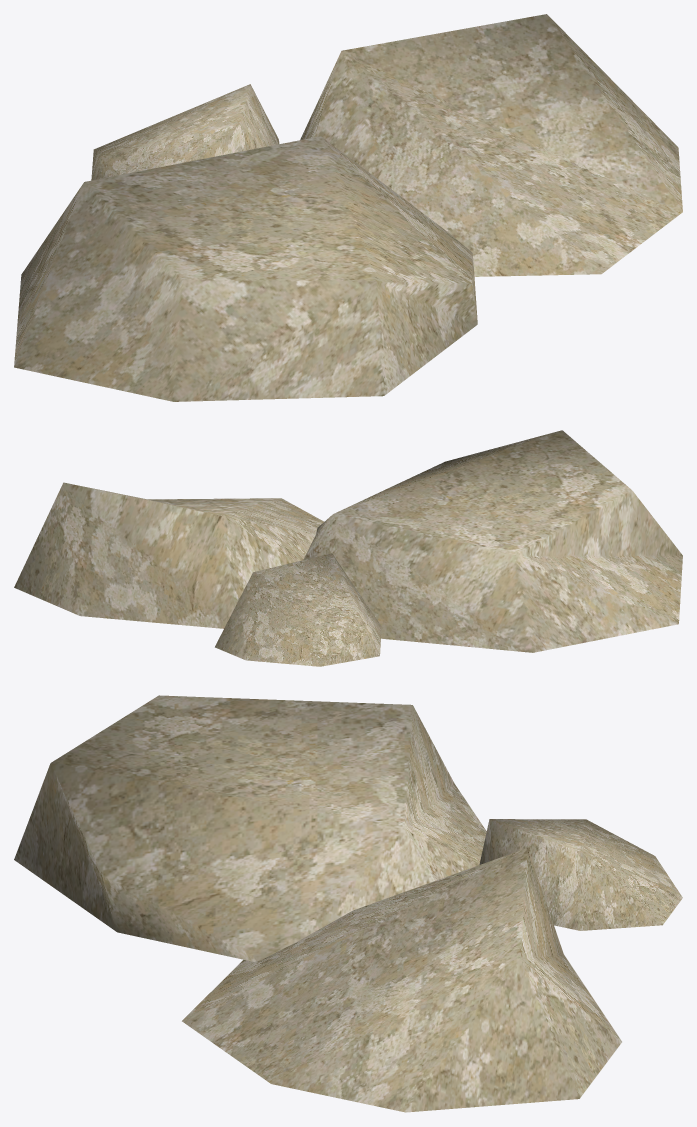
The model's file is rock_small_pile_l2.fbx.
3 views of the same model, one above another, from view 1: azimuth 30°, elevation 25°; view 2: azimuth 150°, elevation 25°; view 3: azimuth 270°, elevation 25° (orthographic). The views are drawn at different scales.
Parts seen in each view (by area): view 1: mesh_node; view 2: mesh_node; view 3: mesh_node.
Part boxes in pixels (x1=…): mesh_node: x1=14, y1=14, x2=682, y2=401; mesh_node: x1=14, y1=430, x2=682, y2=666; mesh_node: x1=14, y1=695, x2=682, y2=1112.
Size of the model in its own units: 1.71 by 0.2888 by 1.32.
